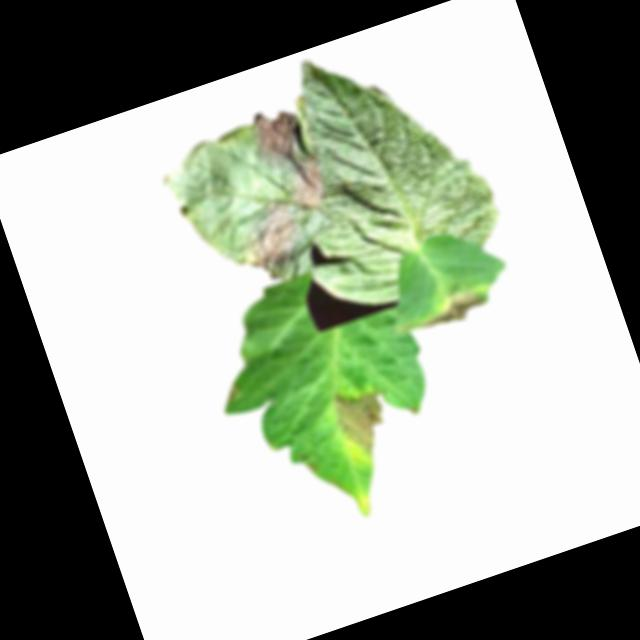Late_blight: (228, 195, 314, 289), (326, 376, 396, 460), (246, 103, 308, 171), (412, 285, 488, 336), (279, 155, 331, 215)
healthy: (243, 12, 516, 325)
